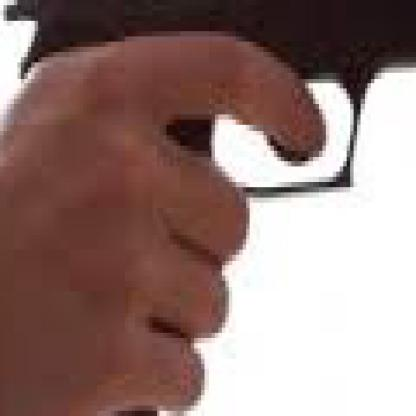gun: (7, 0, 412, 411)
